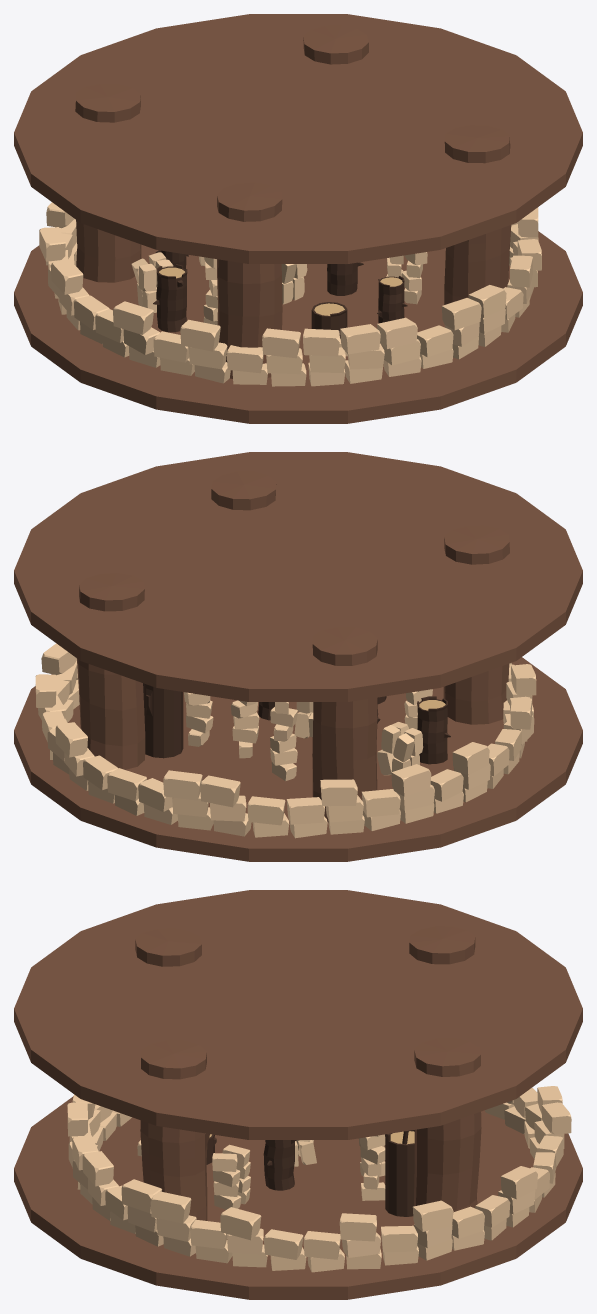
Rendered from fasePredioParkour.fbx.
The picture shows the model from 3 angles, top to bottom: view 1: azimuth 30°, elevation 25°; view 2: azimuth 150°, elevation 25°; view 3: azimuth 270°, elevation 25°; orthographic projection.
Parts seen in each view (by area): view 1: Cylinder.006, Cylinder.005, Circle.005, Circle.002, Cylinder.007, Circle.008, Circle.001, Cylinder.001, Cylinder, Cylinder.002, Circle.009, Circle.015; view 2: Cylinder.006, Cylinder.005, Circle.005, Circle.002, Cylinder.004, Cylinder.007, Circle.001, Circle.004, Circle.006, Circle.010, Circle.009, Circle.015; view 3: Cylinder.006, Cylinder.005, Circle.005, Circle.002, Cylinder.004, Circle.008, Cylinder, Circle.010.
Boxes of the visible parts, x1,y1,x2,y2 form: Cylinder.006: (14, 14, 582, 263); Cylinder.005: (14, 231, 582, 423); Circle.005: (39, 202, 541, 386); Circle.002: (75, 25, 511, 378); Cylinder.007: (153, 264, 187, 332); Circle.008: (386, 252, 427, 304); Circle.001: (131, 252, 173, 312); Cylinder.001: (377, 276, 407, 323); Cylinder: (327, 262, 363, 295); Cylinder.002: (311, 302, 347, 338); Circle.009: (281, 264, 307, 304); Circle.015: (203, 257, 217, 325); Cylinder.006: (14, 452, 582, 701); Cylinder.005: (14, 657, 582, 861); Circle.005: (35, 643, 536, 838); Circle.002: (77, 471, 509, 822); Cylinder.004: (143, 683, 183, 758); Cylinder.007: (417, 696, 450, 764); Circle.001: (377, 722, 423, 775); Circle.004: (270, 702, 297, 781); Circle.006: (230, 700, 259, 758); Circle.010: (184, 692, 213, 746); Circle.009: (294, 702, 313, 738); Circle.015: (404, 689, 432, 729); Cylinder.006: (14, 890, 582, 1139); Cylinder.005: (14, 1096, 582, 1299); Circle.005: (67, 1086, 571, 1272); Circle.002: (135, 926, 481, 1220); Cylinder.004: (385, 1130, 414, 1216); Circle.008: (212, 1144, 250, 1209); Cylinder: (263, 1140, 296, 1190); Circle.010: (359, 1134, 385, 1200).
Size of the model in its own units: 10490 by 3860 by 10652.
